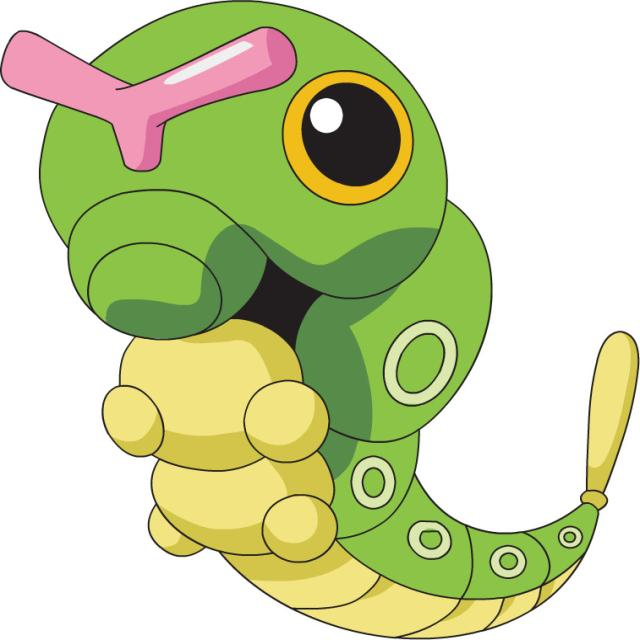Caterpie: (13, 8, 629, 628)
